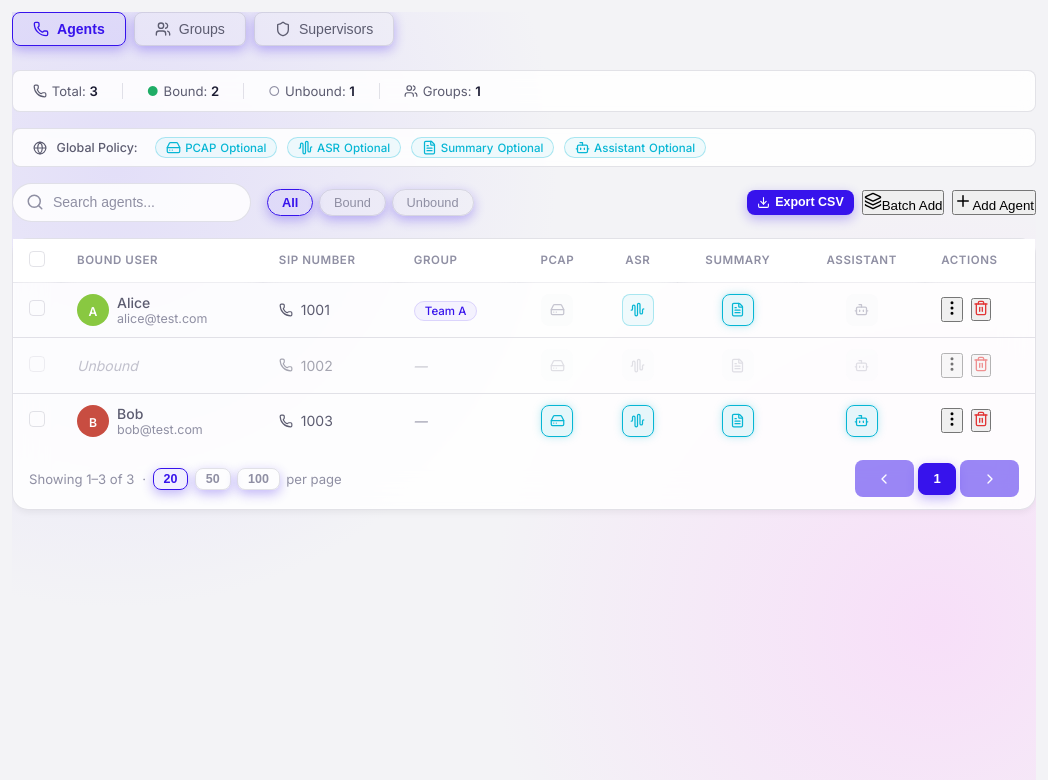
Test: Agents Page › should show batch action bar when agents are selected
Expected: the text "1001" is shown, left=279, top=302, right=330, bottom=318
Click the checkbox named "Select agent 1001" at (37, 308), box left=29, top=300, right=45, bottom=316
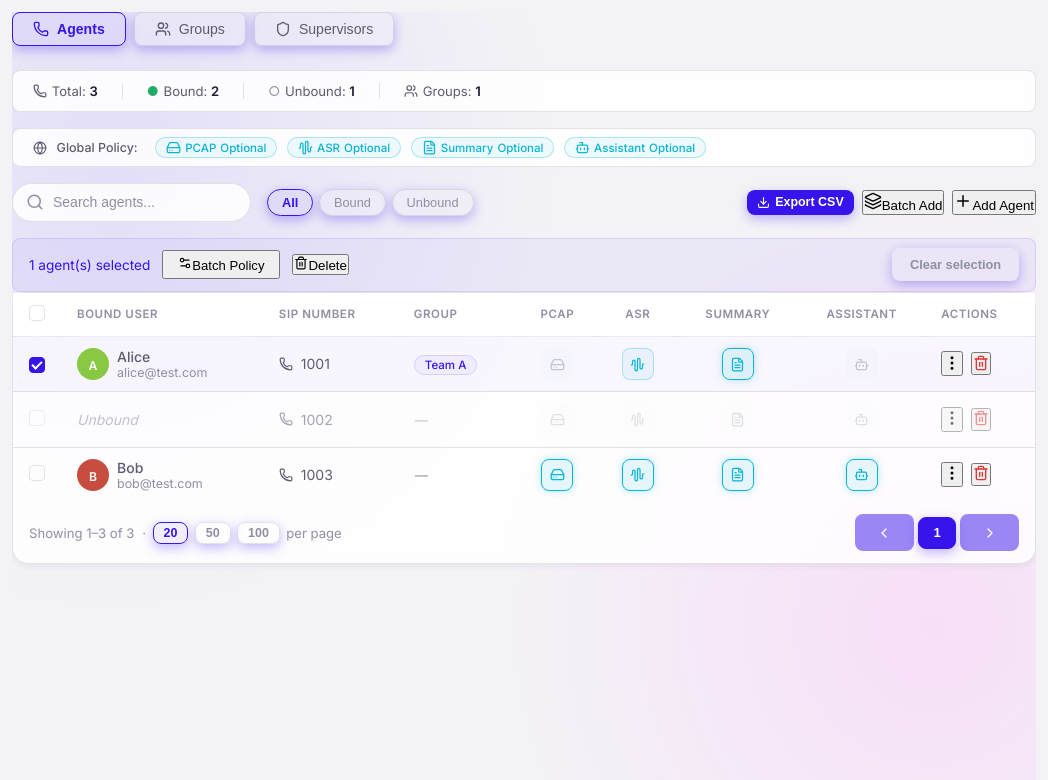
Now the button "Batch Policy" is shown, box left=162, top=250, right=280, bottom=279
